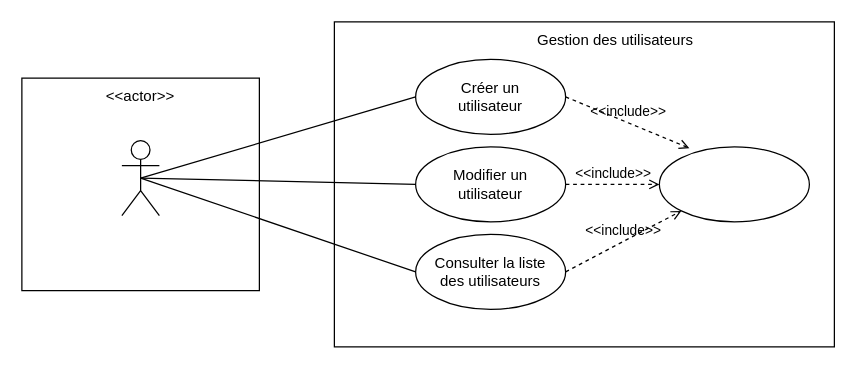
This 856x369 diagram has some shape labels left out. Here are the shapes that lost their labels. From the top down, the box of each, then its label:
(121, 139, 159, 216): Administrateur
(658, 146, 809, 222): Authentification
